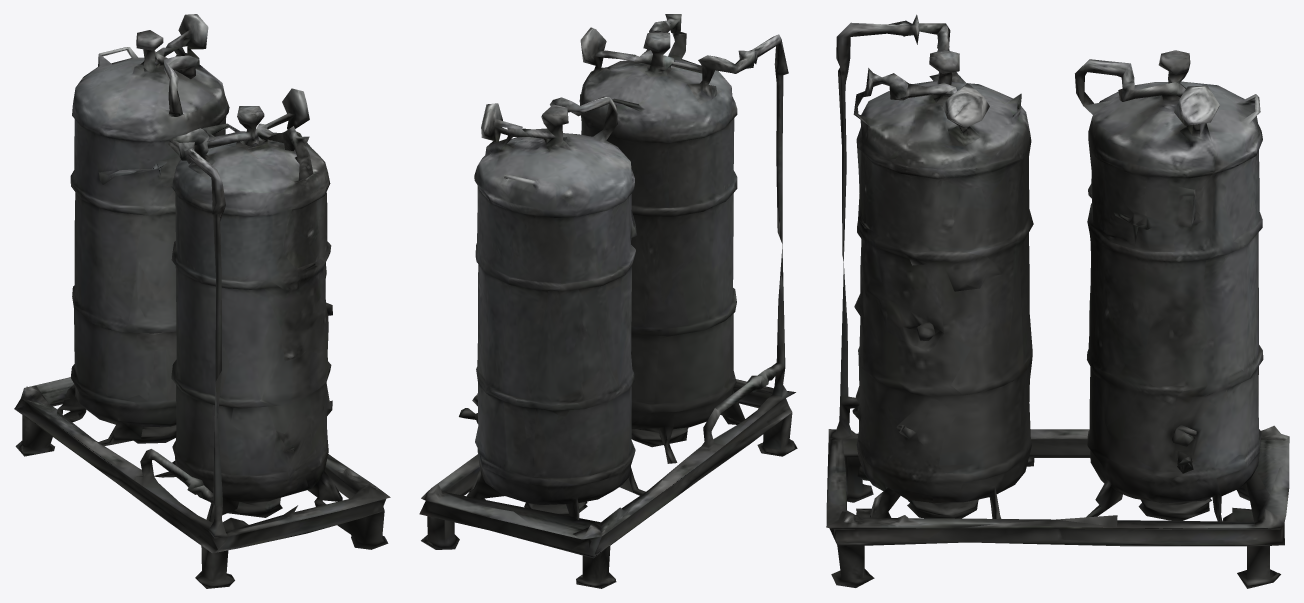
Rendered from xd_gastank.glb.
3 renders of one model, left to right at view 1: azimuth 30°, elevation 25°; view 2: azimuth 150°, elevation 25°; view 3: azimuth 270°, elevation 25°, orthographic. The views are drawn at different scales.
Parts seen in each view (by area): view 1: tripo_node_52dd49dc-1c01-436d-998f-ccd2142b6bc2; view 2: tripo_node_52dd49dc-1c01-436d-998f-ccd2142b6bc2; view 3: tripo_node_52dd49dc-1c01-436d-998f-ccd2142b6bc2.
Part boxes in pixels (box(x1,y1,x2,y2)): tripo_node_52dd49dc-1c01-436d-998f-ccd2142b6bc2: box(14, 14, 390, 588); tripo_node_52dd49dc-1c01-436d-998f-ccd2142b6bc2: box(419, 14, 797, 588); tripo_node_52dd49dc-1c01-436d-998f-ccd2142b6bc2: box(826, 14, 1289, 588).
Size of the model in its own units: 0.4655 by 1 by 0.8707.
1 material, 1 textured.
